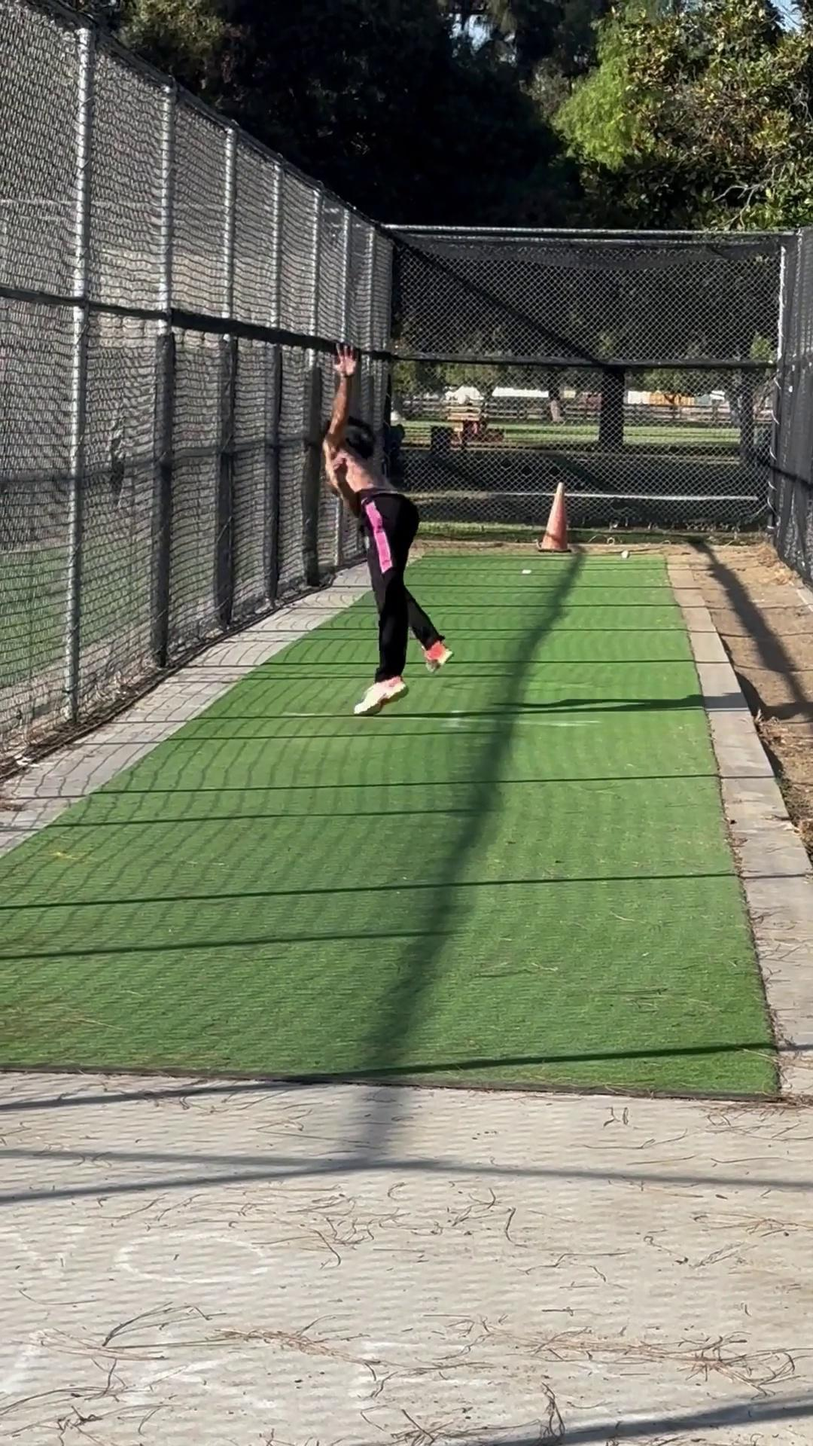ball: (452, 390, 475, 410)
